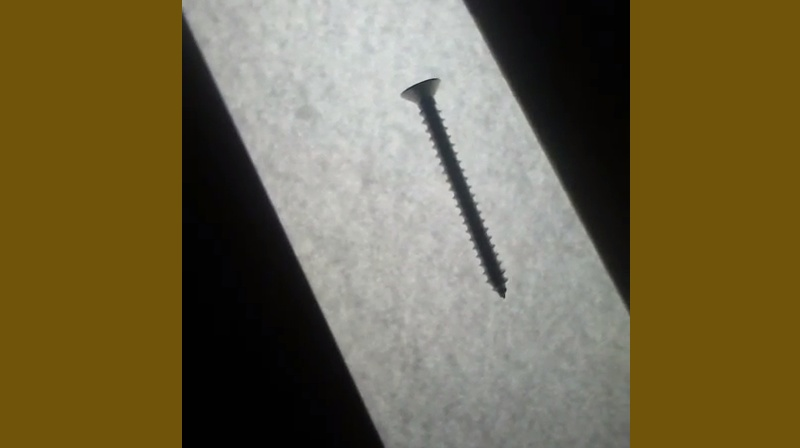S002: (396, 70, 512, 302)
